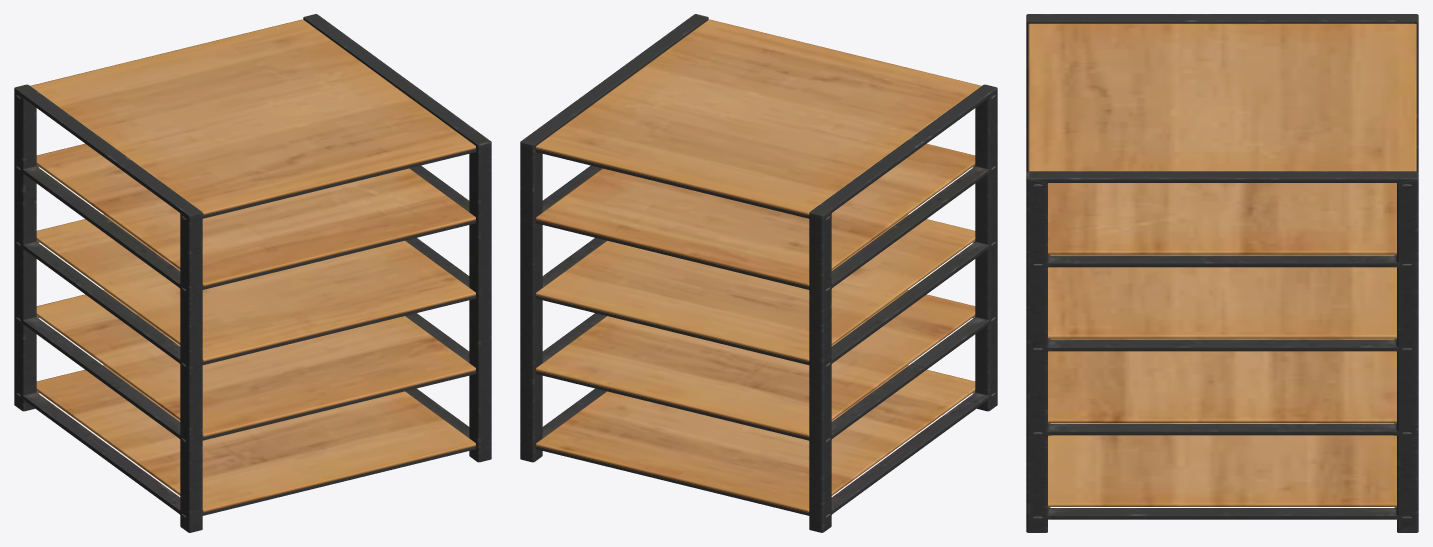
File: ph-steel-frame-shelves-02.glb
The picture shows the model from 3 angles, left to right: view 1: azimuth 30°, elevation 25°; view 2: azimuth 150°, elevation 25°; view 3: azimuth 270°, elevation 25°; orthographic projection. The views are drawn at different scales.
Visible parts, largest first — view 1: steel_frame_shelves_02; view 2: steel_frame_shelves_02; view 3: steel_frame_shelves_02.
Part boxes in pixels (x1,y1,x2,y2): steel_frame_shelves_02: [14, 14, 491, 532]; steel_frame_shelves_02: [520, 14, 997, 532]; steel_frame_shelves_02: [1026, 14, 1418, 532].
Bounding box in the file's own units: 1 × 1 × 1.
1 material, 1 textured.
